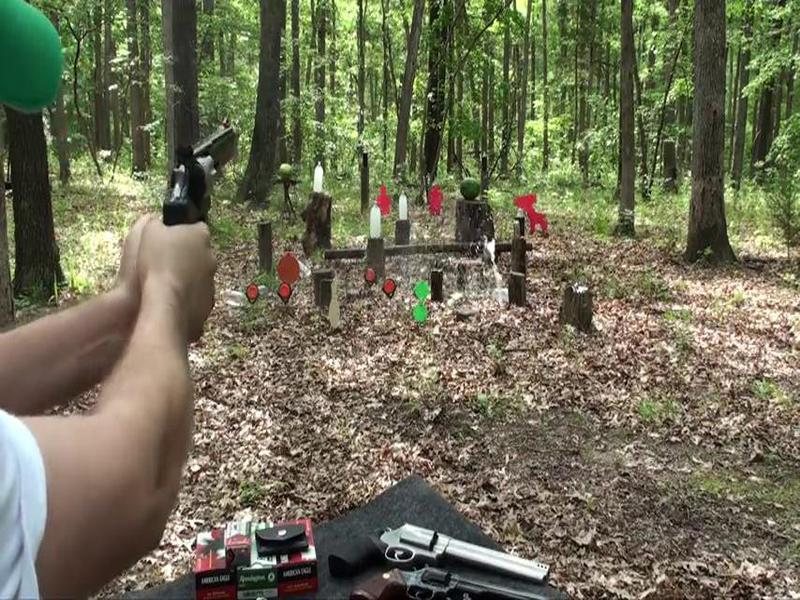Revolver: (152, 95, 247, 260)
